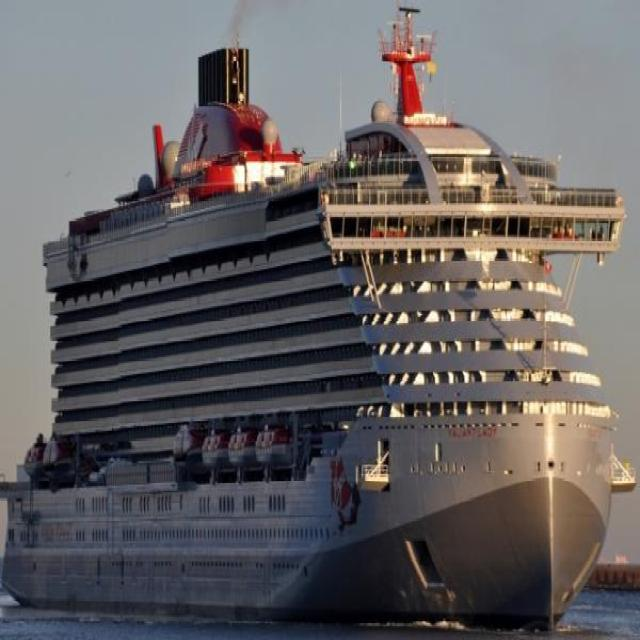Cruise: (2, 8, 635, 628)
